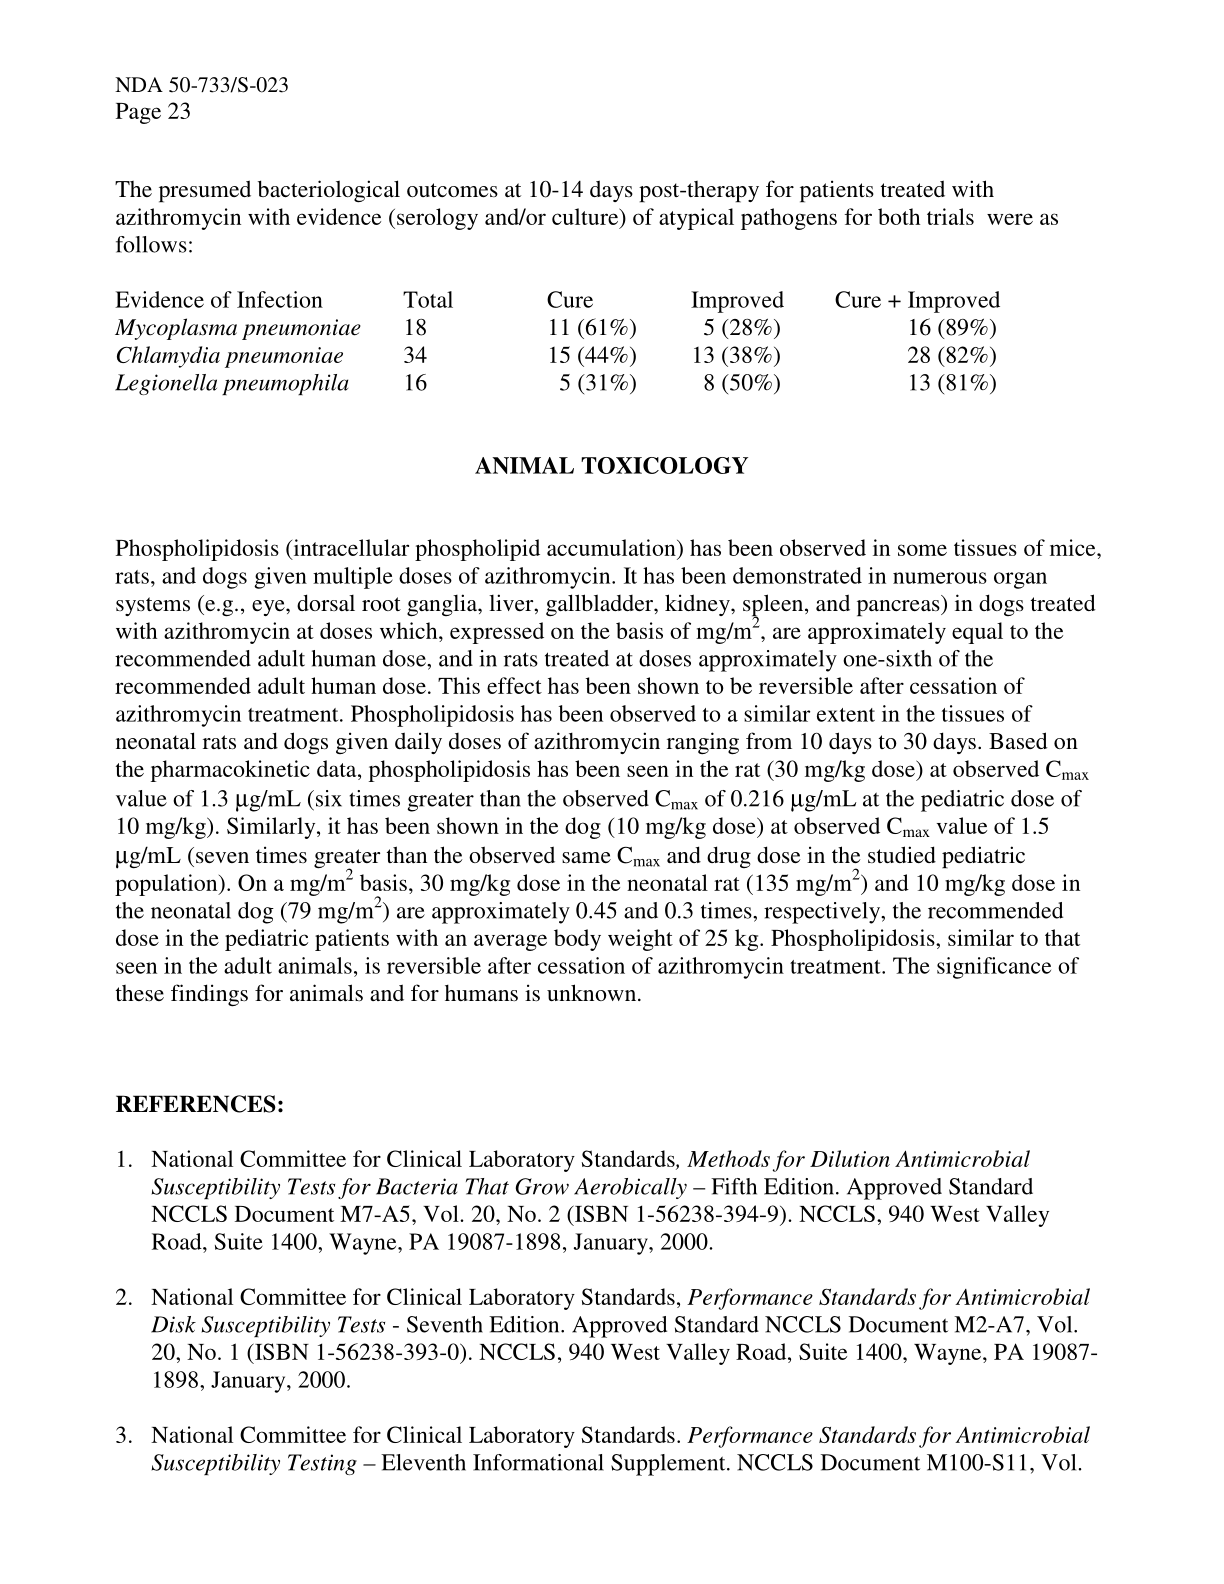nolines: (113, 285, 1000, 399)
